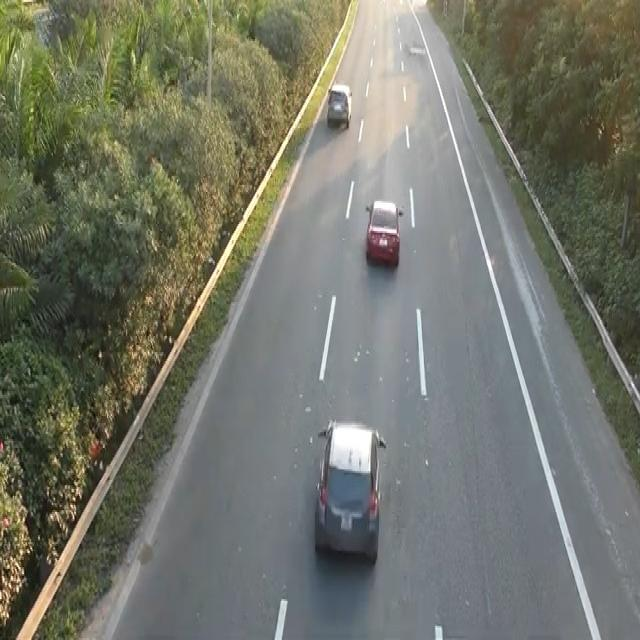bus: (312, 414, 387, 566), (364, 196, 401, 266), (325, 80, 352, 128)
